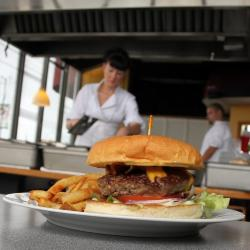burger: (84, 135, 215, 224)
fries: (30, 173, 95, 211)
